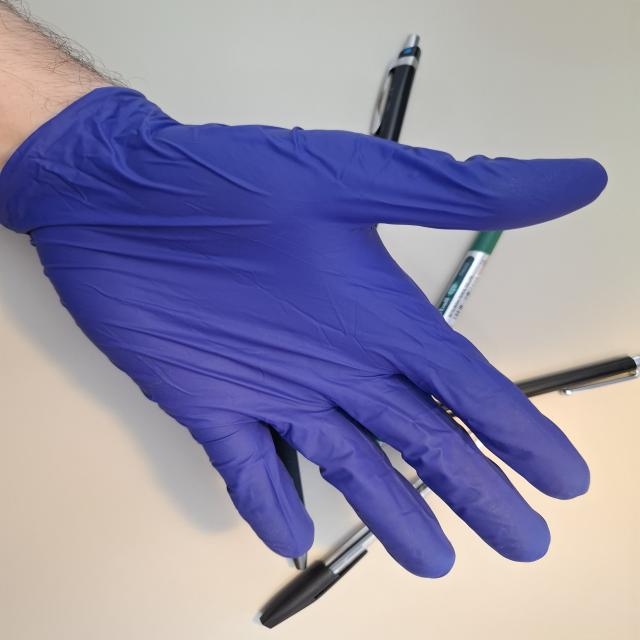glove_on: (2, 86, 614, 581)
